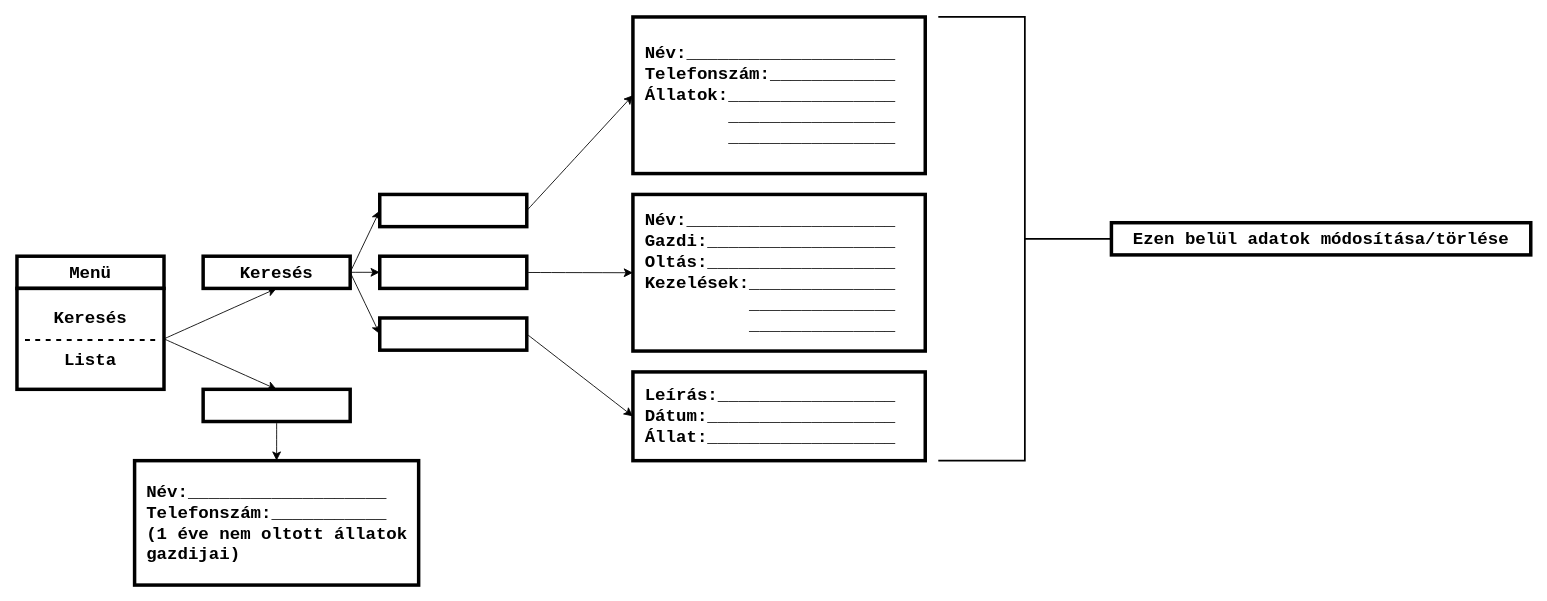
Some shapes in this 1547 by 601 pixel diagram are drawn without their labels. Here are the shapes that lost their labels. From the top down, the box of each, then its label:
(378, 192, 528, 228): Gazdi
(378, 254, 528, 290): Állat
(378, 316, 528, 351): Kezelés
(201, 387, 351, 423): Lista
